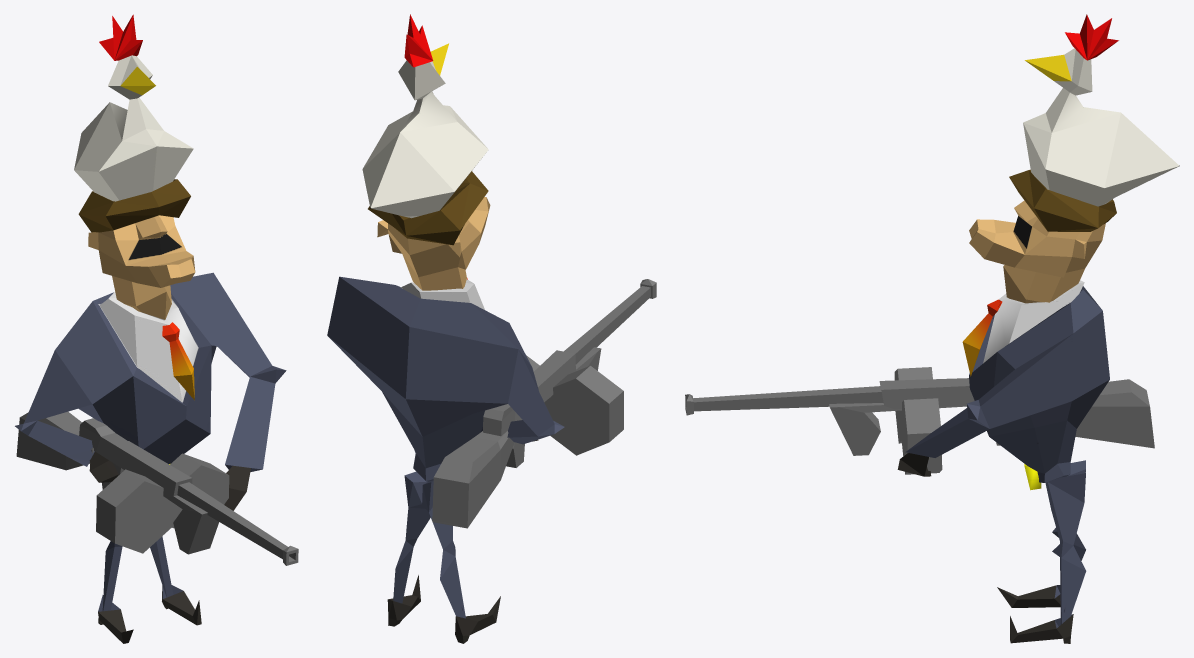
File: Birdman.obj
The picture shows the model from 3 angles, left to right: view 1: azimuth 30°, elevation 25°; view 2: azimuth 150°, elevation 25°; view 3: azimuth 270°, elevation 25°; orthographic projection. The views are drawn at different scales.
Visible parts, largest first — view 1: default; view 2: default; view 3: default.
Part boxes in pixels (box(x1,y1,x2,y2)): default: box(15, 14, 298, 643); default: box(327, 14, 656, 643); default: box(685, 14, 1179, 643).
Size of the model in its own units: 1.08 by 2.67 by 1.94.
1 material, 1 textured.
